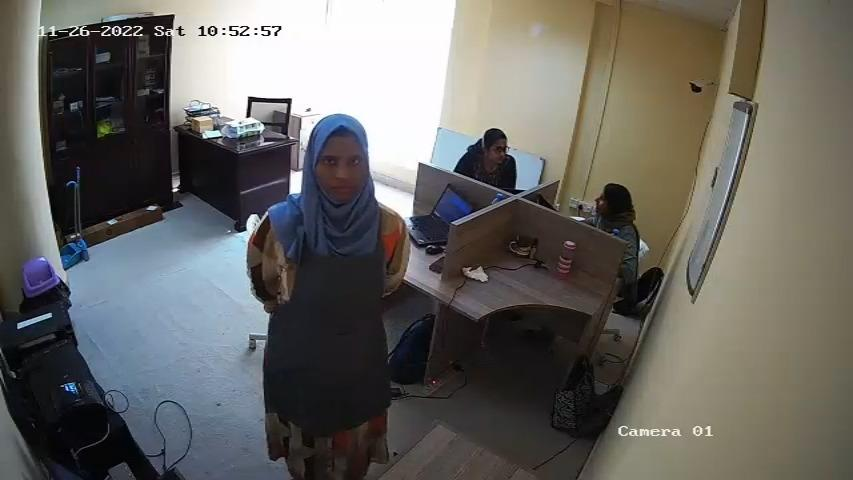apron: (287, 206, 395, 428)
